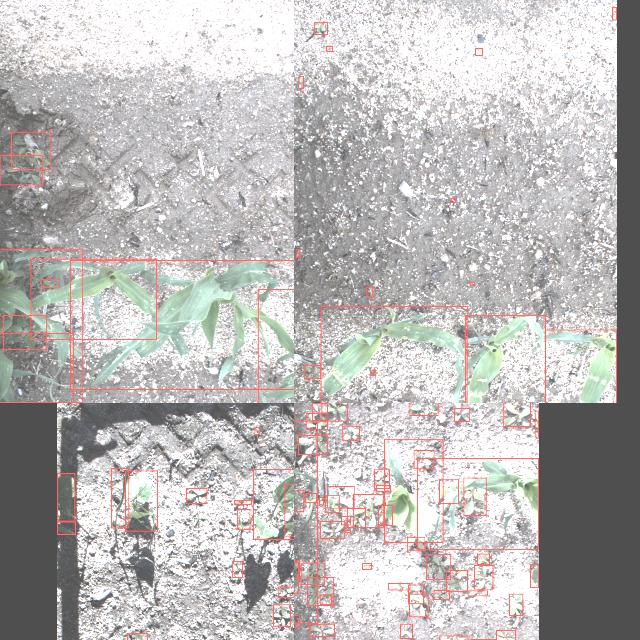crop: (69, 260, 294, 389), (320, 306, 467, 403), (0, 249, 82, 403), (418, 458, 538, 550), (30, 258, 156, 339), (465, 315, 545, 403), (384, 440, 444, 542), (545, 329, 617, 403), (0, 333, 73, 403), (294, 420, 317, 623), (257, 289, 294, 403), (253, 469, 294, 539), (125, 471, 157, 531), (57, 474, 75, 520), (328, 486, 354, 508), (285, 484, 294, 536), (531, 564, 539, 588)
weed: (11, 132, 51, 170), (2, 315, 46, 349), (0, 155, 42, 185), (353, 494, 383, 528), (112, 468, 128, 528), (464, 478, 486, 514), (307, 577, 333, 605), (426, 554, 450, 580), (504, 403, 530, 427), (300, 563, 324, 585), (298, 436, 326, 454), (474, 565, 494, 589), (447, 570, 468, 592), (439, 480, 458, 504), (321, 403, 346, 421), (409, 594, 428, 616), (346, 508, 366, 528), (414, 450, 434, 470), (320, 522, 344, 538), (274, 604, 290, 626), (410, 403, 438, 415), (186, 488, 206, 504), (306, 413, 326, 429), (509, 594, 523, 616), (374, 469, 390, 488), (310, 624, 334, 636), (408, 585, 424, 603), (378, 505, 392, 525), (312, 404, 328, 421), (342, 426, 360, 440), (407, 537, 425, 551), (238, 509, 250, 529), (304, 365, 320, 379), (454, 408, 470, 422), (325, 496, 339, 512), (57, 522, 75, 534), (496, 630, 516, 640), (278, 586, 294, 598), (294, 490, 303, 511), (41, 278, 59, 288), (400, 624, 412, 638), (233, 561, 243, 577), (434, 590, 450, 600), (314, 23, 326, 35), (127, 633, 147, 640), (388, 584, 409, 590), (477, 554, 489, 564), (468, 590, 488, 596), (304, 493, 316, 502), (535, 411, 539, 437), (320, 595, 330, 605), (294, 561, 299, 579), (376, 485, 390, 491), (366, 286, 372, 298), (298, 76, 304, 88), (234, 500, 252, 504), (342, 516, 351, 524), (362, 563, 372, 569), (612, 6, 616, 20), (294, 615, 298, 627), (476, 49, 482, 56), (326, 46, 332, 52), (370, 370, 376, 376), (254, 428, 260, 434), (295, 250, 299, 258), (319, 497, 323, 505), (450, 198, 456, 202), (470, 282, 474, 286), (346, 531, 350, 533)
